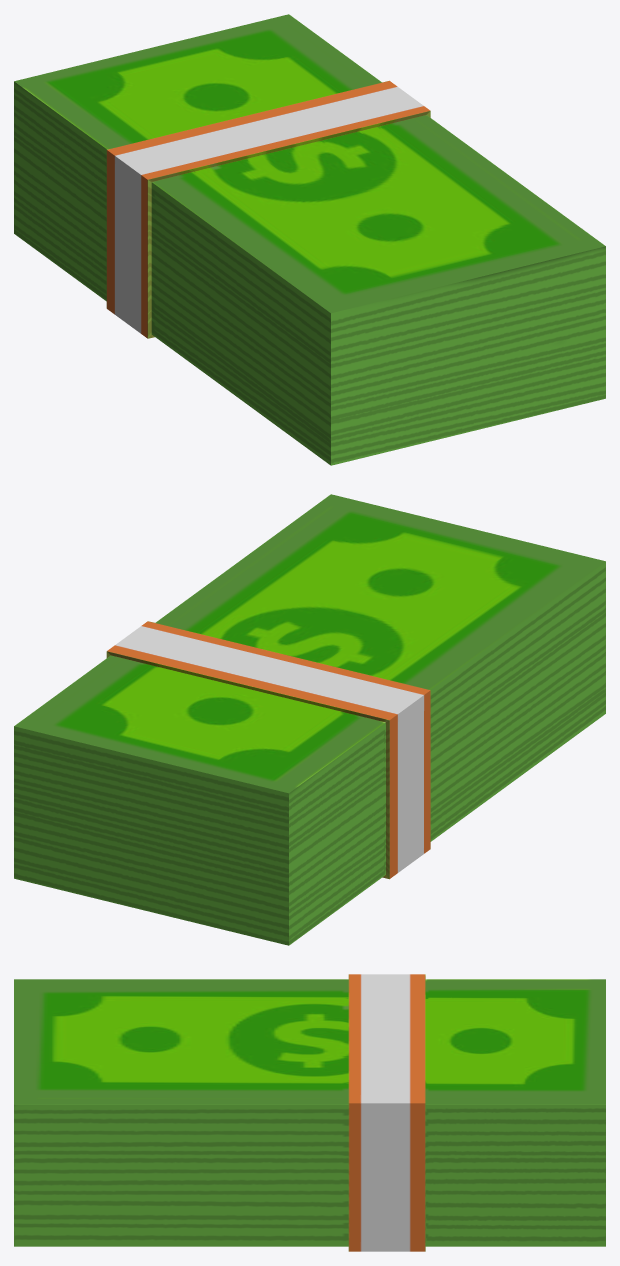
Rendered from dollar.fbx.
3 renders of one model, top to bottom at view 1: azimuth 30°, elevation 25°; view 2: azimuth 150°, elevation 25°; view 3: azimuth 270°, elevation 25°, orthographic. The views are drawn at different scales.
Visible parts, largest first — view 1: Cube; view 2: Cube; view 3: Cube.
Part boxes in pixels (x1,y1,x2,y2): Cube: [14, 14, 605, 465]; Cube: [14, 494, 605, 945]; Cube: [14, 974, 605, 1251].
Bounding box in the file's own units: 22.97 × 12.33 × 44.58.
1 material, 1 textured.
